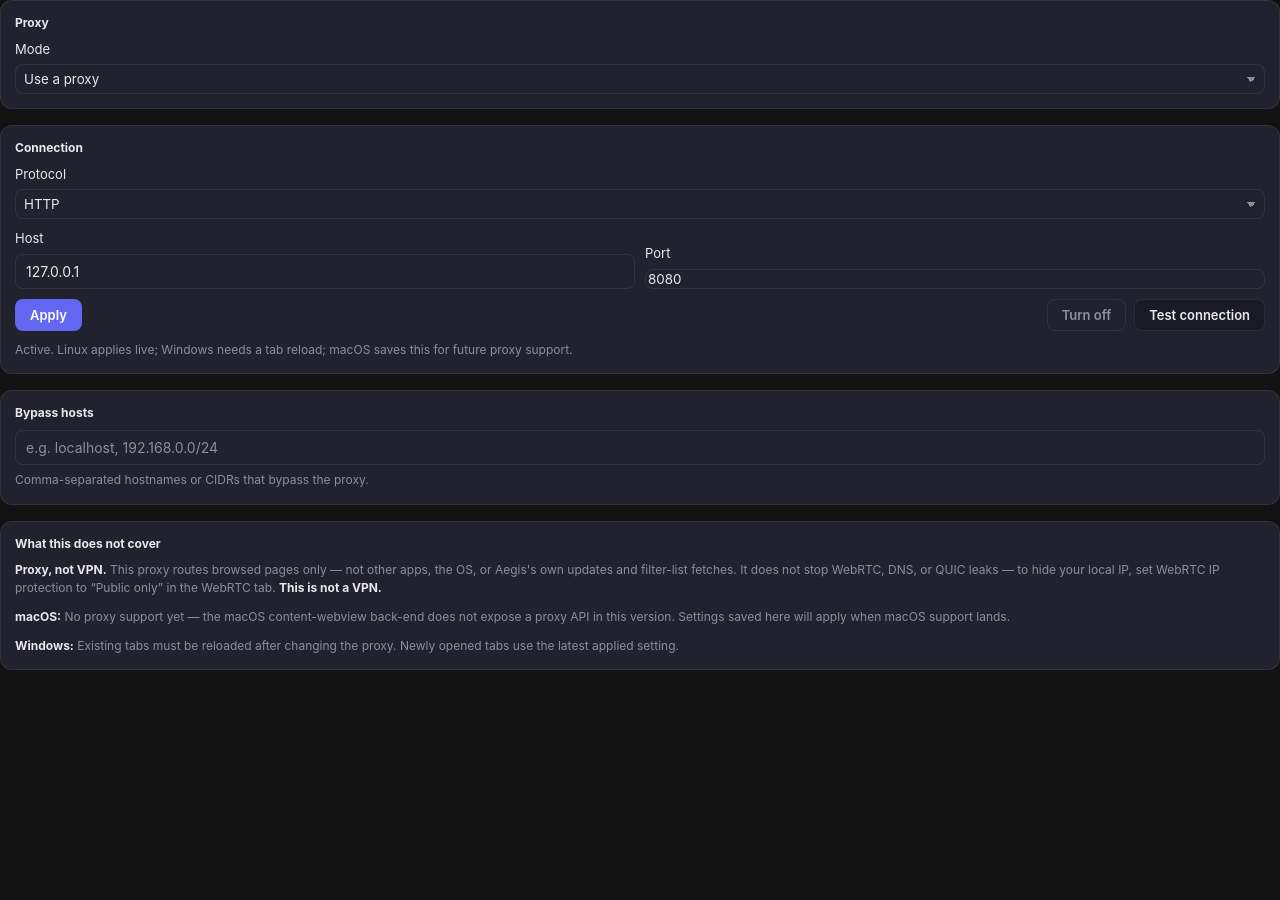
Test: ProxySettingsTab › Test connection shows failure message
This screenshot has width=1280, height=900.
Click the button with aria-label "test proxy connection" at (1200, 315), box [1134,299,1265,331]
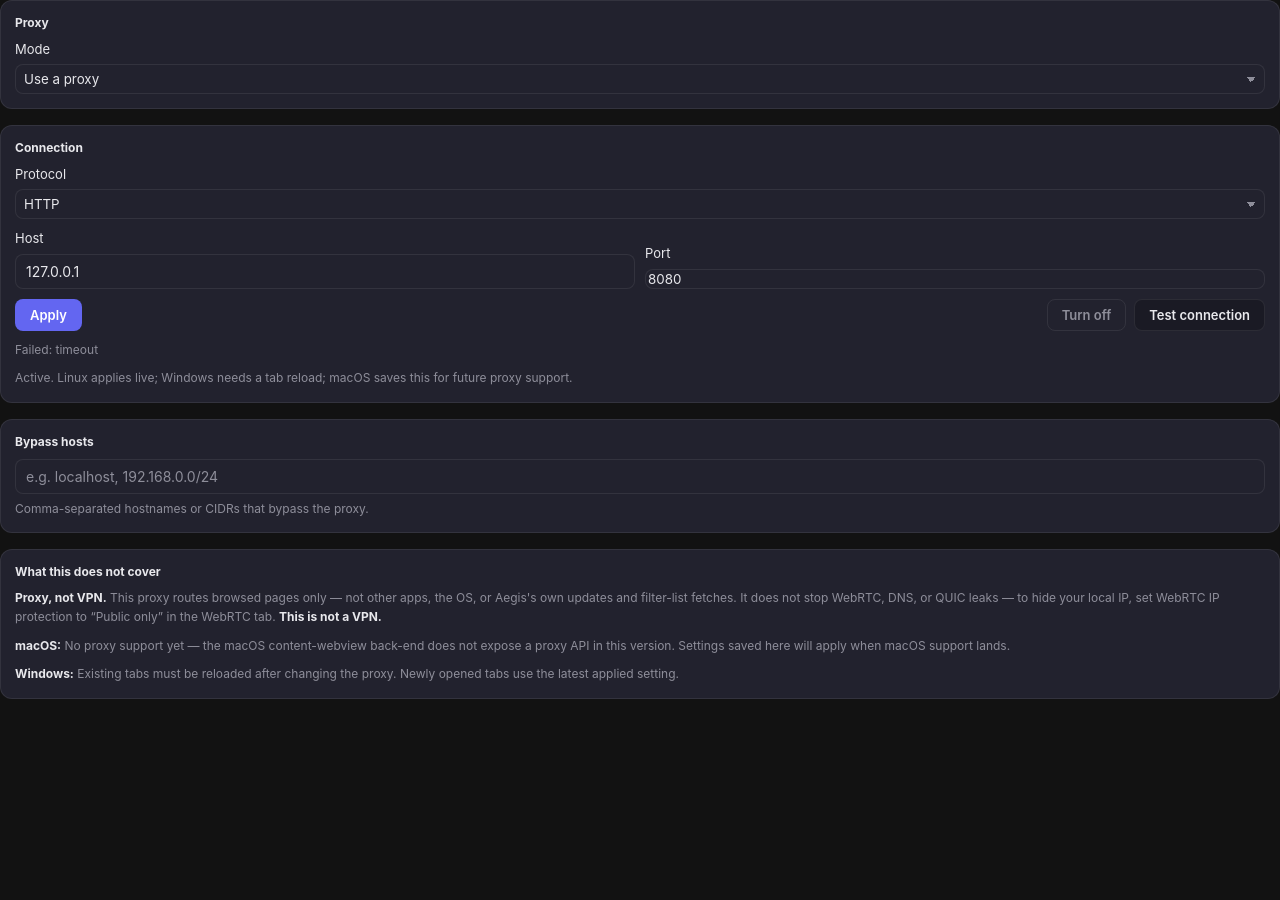
Expected: the message reads "Failed: timeout", [15,342,98,357]
